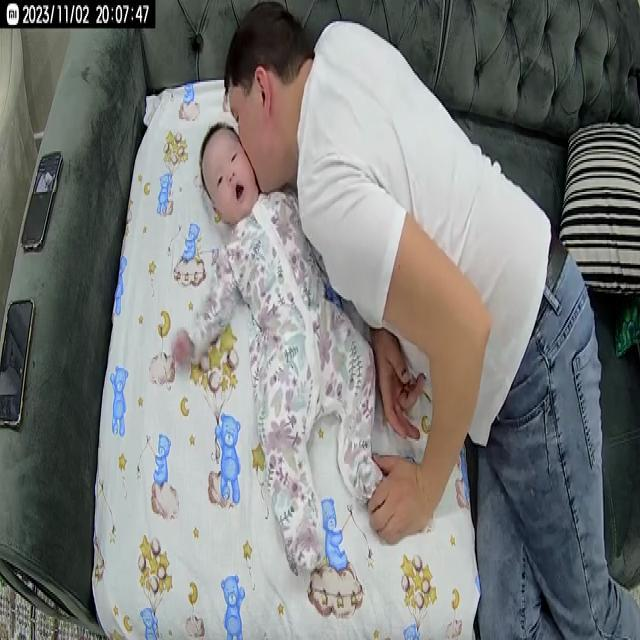baby: (172, 121, 396, 578)
